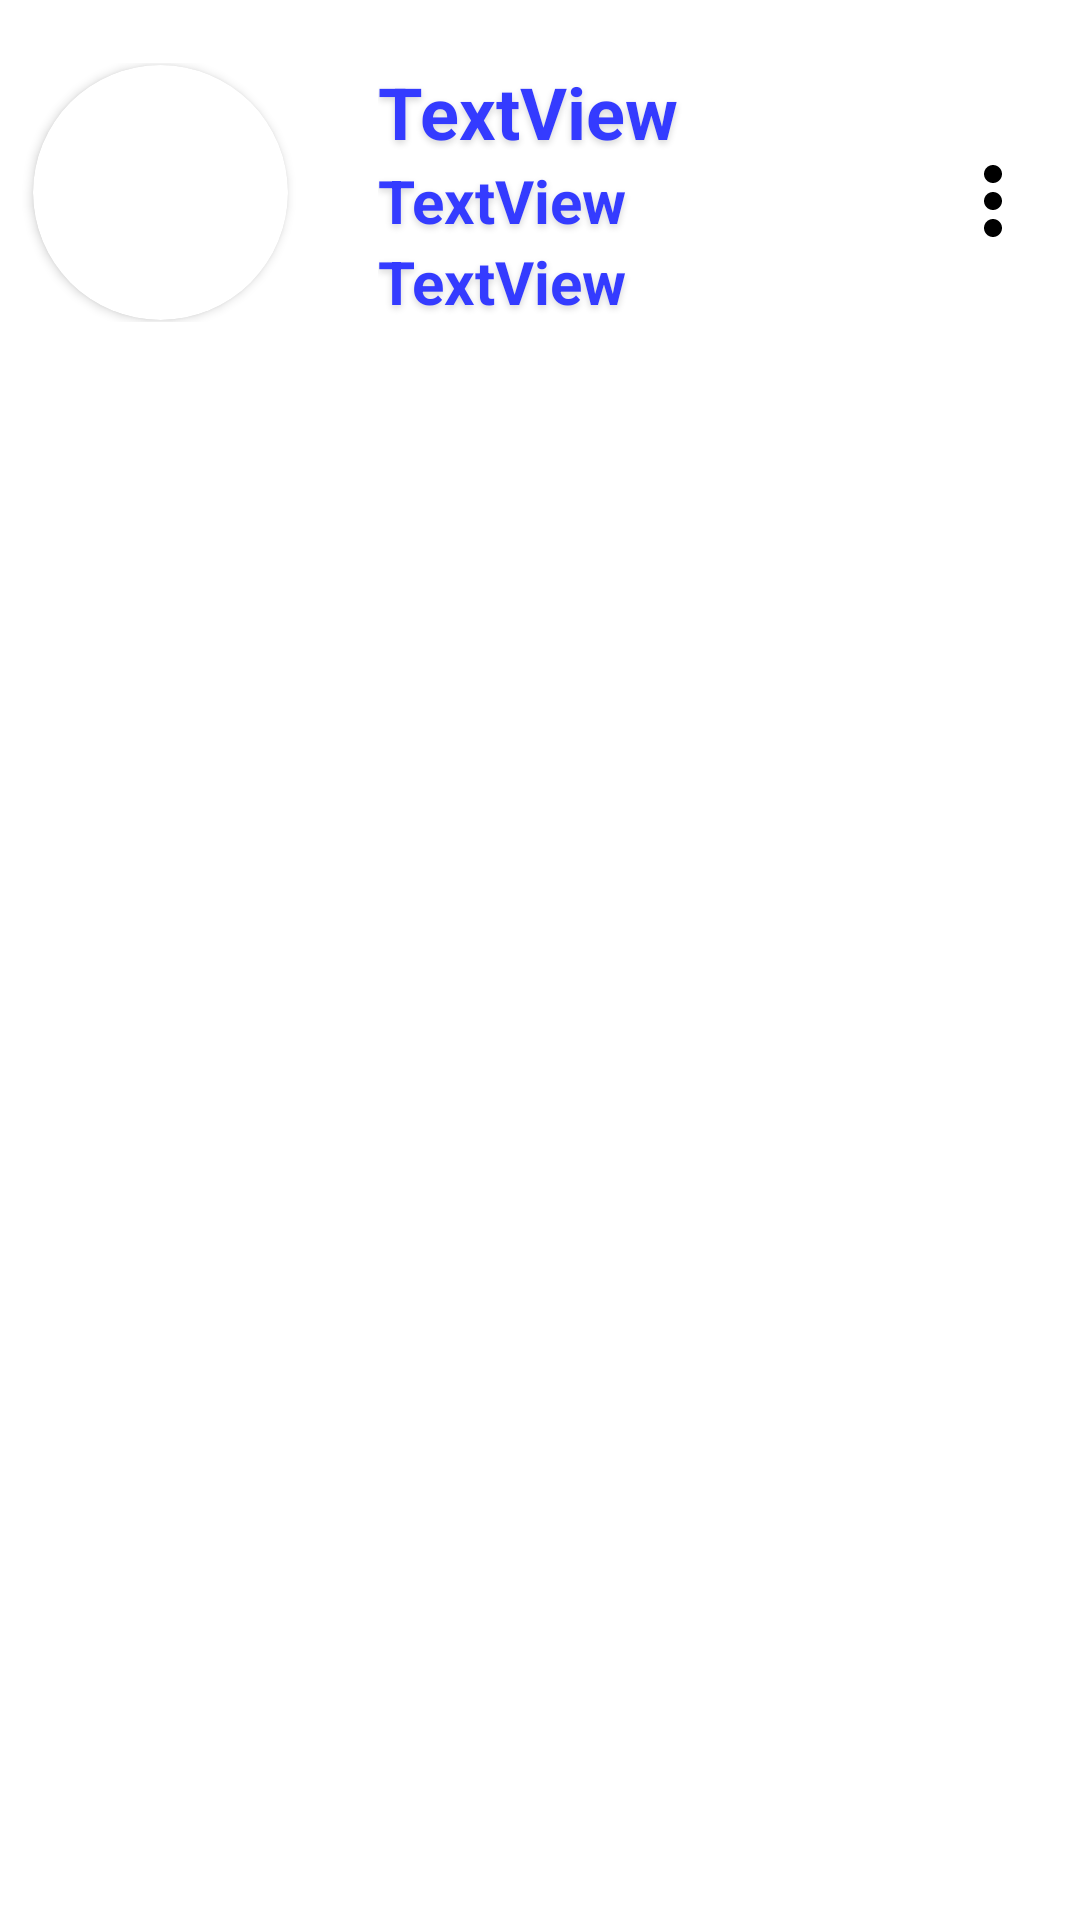

Icon click points for this 1080*1920 phone screenshot, format [x,y]:
more: [993,201]
